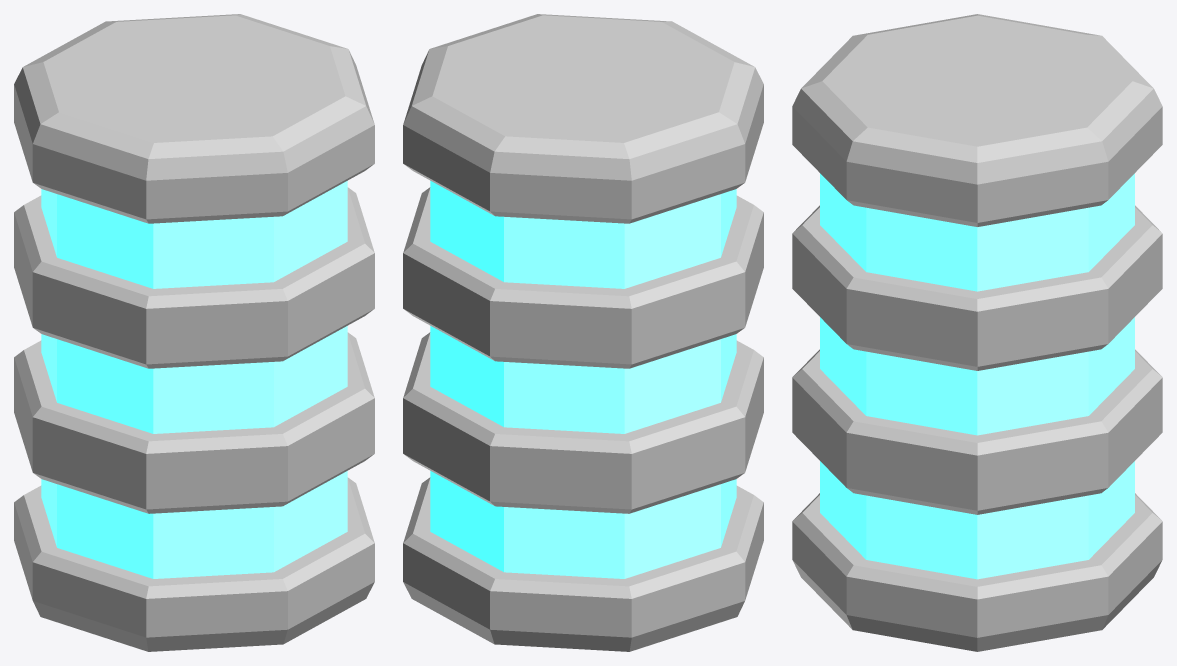
Rendered from energy_cell.glb.
3 views of the same model, side by side, from view 1: azimuth 30°, elevation 25°; view 2: azimuth 150°, elevation 25°; view 3: azimuth 270°, elevation 25° (orthographic).
Parts seen in each view (by area): view 1: Cylinder, Cylinder.001; view 2: Cylinder, Cylinder.001; view 3: Cylinder, Cylinder.001.
Part boxes in pixels (<box>): Cylinder: <box>14,14,374,651</box>; Cylinder.001: <box>41,181,347,578</box>; Cylinder: <box>403,14,763,651</box>; Cylinder.001: <box>430,181,736,578</box>; Cylinder: <box>792,14,1162,651</box>; Cylinder.001: <box>820,173,1134,579</box>.
Size of the model in its own units: 0.4 by 0.6 by 0.4.
